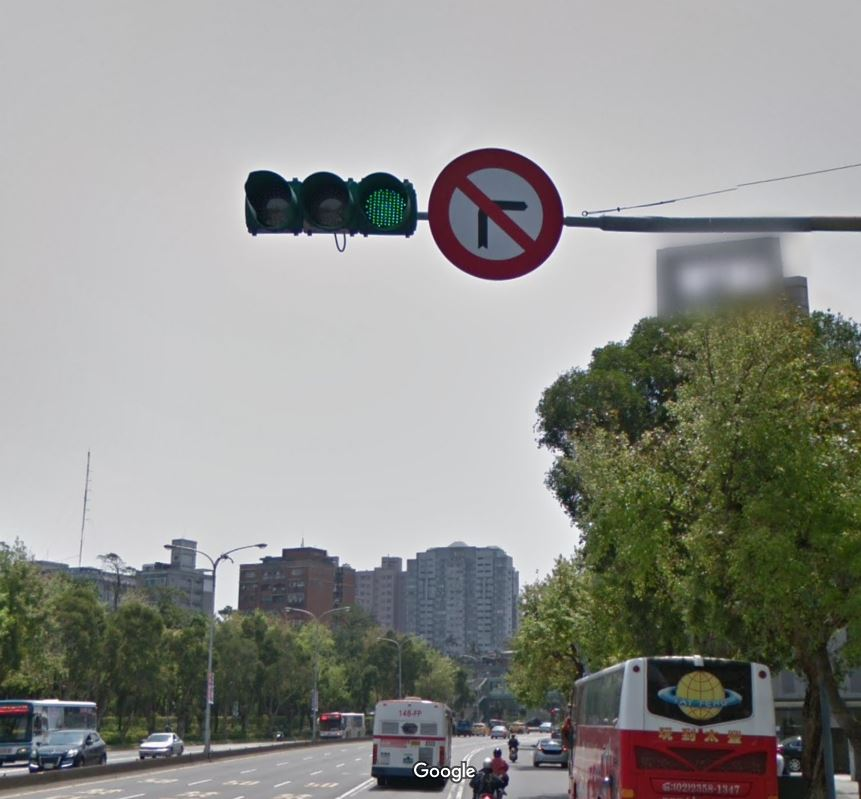Traffic_light_green: (238, 161, 419, 245)
